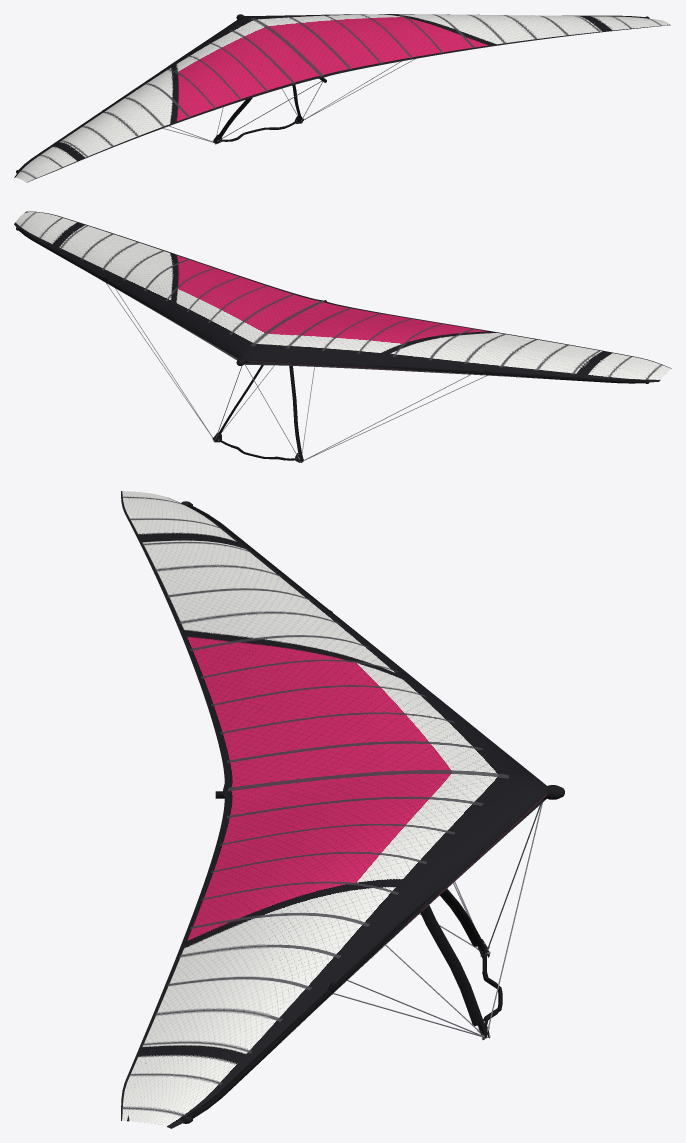
Rendered from glider_ww_fusion.glb.
The picture shows the model from 3 angles, top to bottom: view 1: azimuth 30°, elevation 25°; view 2: azimuth 150°, elevation 25°; view 3: azimuth 270°, elevation 25°; orthographic projection. The views are drawn at different scales.
Visible parts, largest first — view 1: Sail, ControlFrame, Frame; view 2: Sail, ControlFrame, Frame; view 3: Sail, ControlFrame, Frame.
Part boxes in pixels (x1,y1,x2,y2): Sail: (14, 14, 671, 182); ControlFrame: (163, 59, 415, 144); Frame: (16, 14, 649, 173); Sail: (14, 211, 671, 382); ControlFrame: (106, 283, 486, 462); Frame: (16, 226, 649, 383); Sail: (121, 491, 547, 1128); ControlFrame: (333, 802, 542, 1039); Frame: (180, 501, 564, 1123).
Bounding box in the file's own units: 10.39 × 1.79 × 3.1.
Materials: 8 (1 with a texture image).
